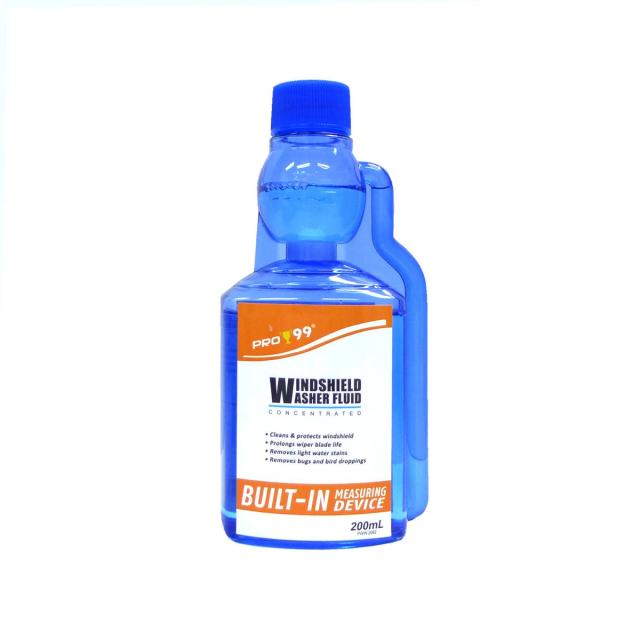winwinshield_washer: (216, 76, 434, 551)
